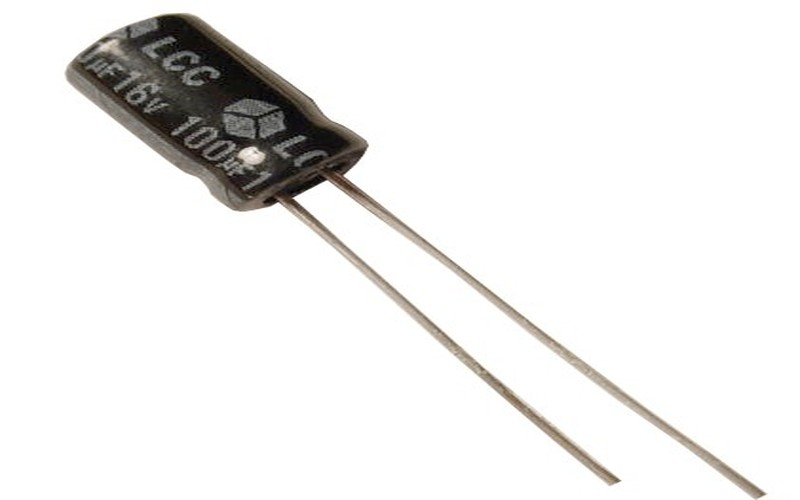Capacitor: (38, 10, 784, 500)
